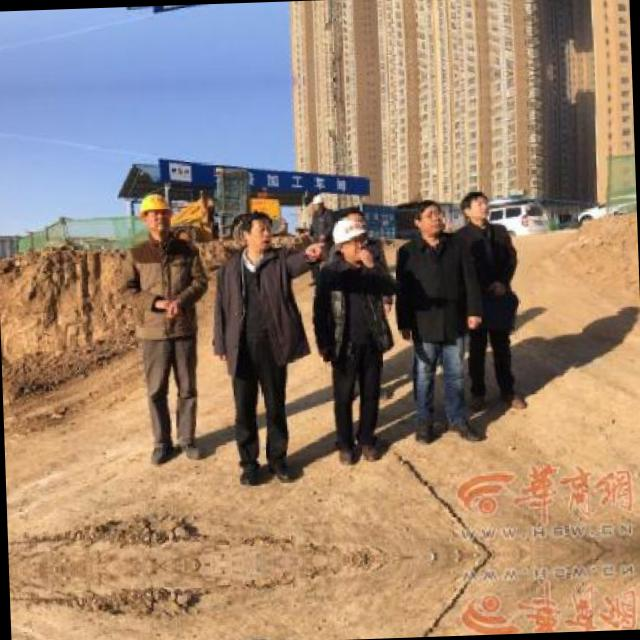helmet: (328, 216, 371, 262), (136, 190, 173, 236), (310, 190, 331, 212)
